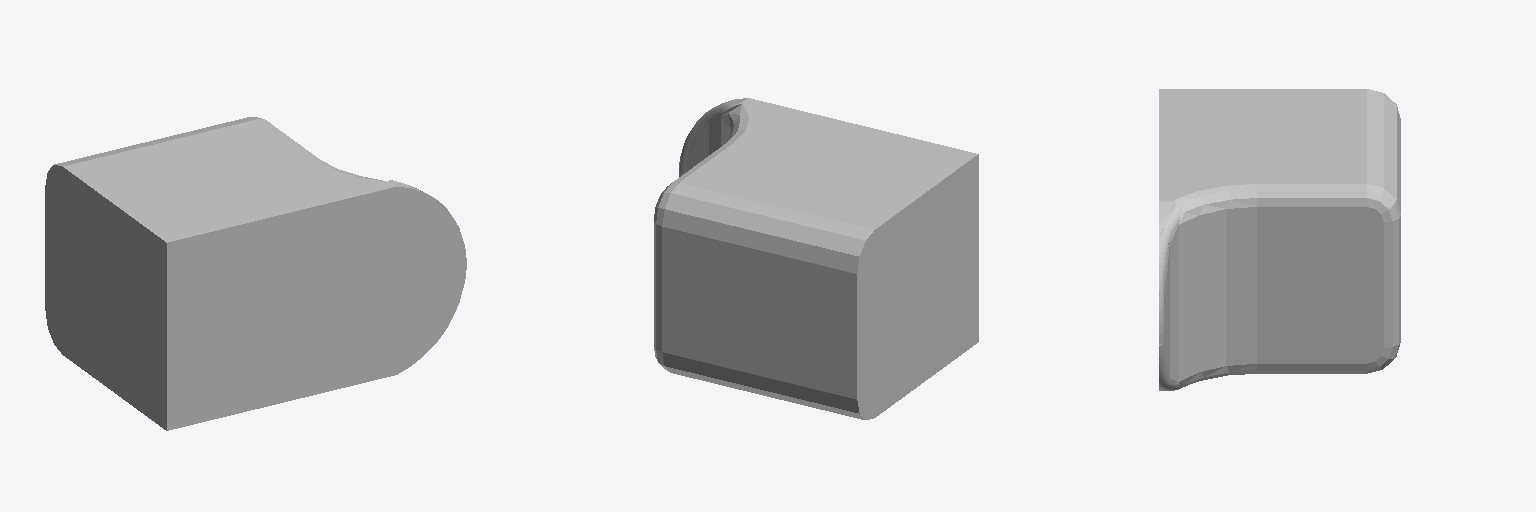
Rendered from trigger.obj.
3 views of the same model, side by side, from view 1: azimuth 30°, elevation 25°; view 2: azimuth 150°, elevation 25°; view 3: azimuth 270°, elevation 25° (orthographic).
Parts seen in each view (by area): view 1: trigger_imagetostl_mesh0.002; view 2: trigger_imagetostl_mesh0.002; view 3: trigger_imagetostl_mesh0.002.
Part boxes in pixels (x1,y1,x2,y2): trigger_imagetostl_mesh0.002: (45, 117, 466, 430); trigger_imagetostl_mesh0.002: (654, 98, 978, 419); trigger_imagetostl_mesh0.002: (1159, 89, 1400, 390).
Size of the model in its own units: 0.03 by 0.018 by 0.021.